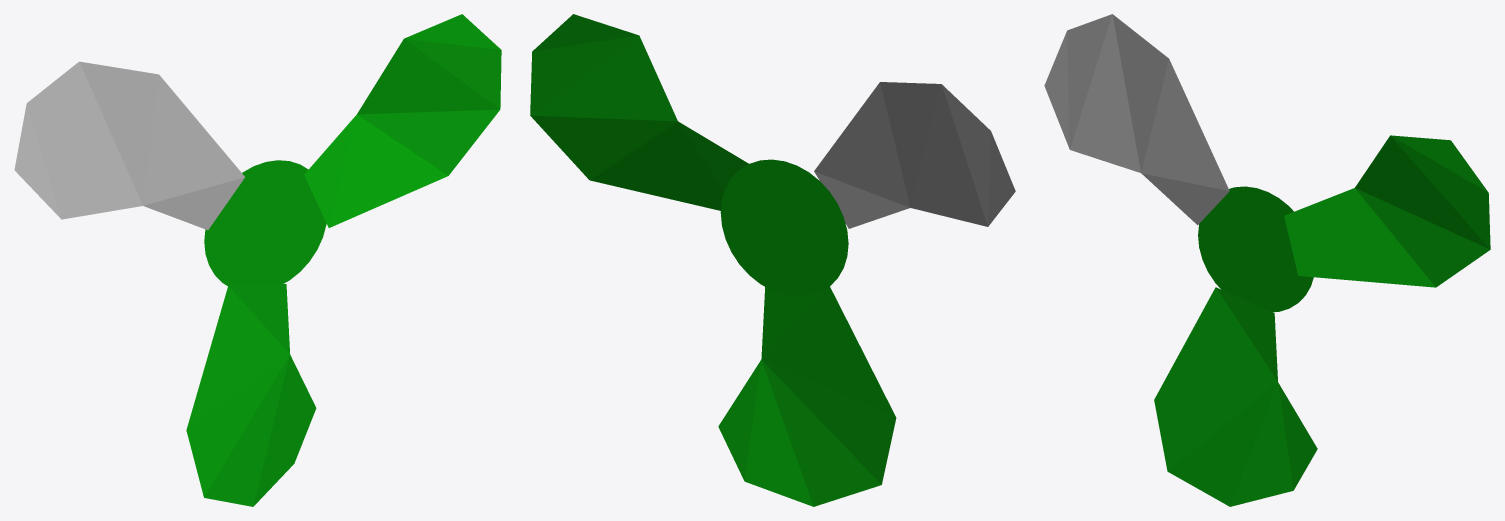
The model's file is propeller(Col).obj.
3 views of the same model, side by side, from view 1: azimuth 30°, elevation 25°; view 2: azimuth 150°, elevation 25°; view 3: azimuth 330°, elevation 25° (orthographic). The views are drawn at different scales.
Visible parts, largest first — view 1: 平面, 平面.002, 平面.001, 円柱; view 2: 平面.001, 平面.002, 平面, 円柱; view 3: 平面.001, 平面.002, 平面, 円柱.
Part boxes in pixels (x1=…): 平面: x1=14, y1=61, x2=244, y2=230; 平面.002: x1=304, y1=14, x2=501, y2=227; 平面.001: x1=186, y1=284, x2=316, y2=506; 円柱: x1=204, y1=160, x2=326, y2=285; 平面.001: x1=718, y1=286, x2=896, y2=506; 平面.002: x1=530, y1=14, x2=748, y2=210; 平面: x1=814, y1=82, x2=1015, y2=228; 円柱: x1=720, y1=159, x2=848, y2=296; 平面.001: x1=1154, y1=287, x2=1317, y2=506; 平面.002: x1=1284, y1=135, x2=1490, y2=287; 平面: x1=1044, y1=14, x2=1229, y2=225; 円柱: x1=1198, y1=186, x2=1313, y2=312.
Size of the model in its own units: 148 by 137 by 19.33.
